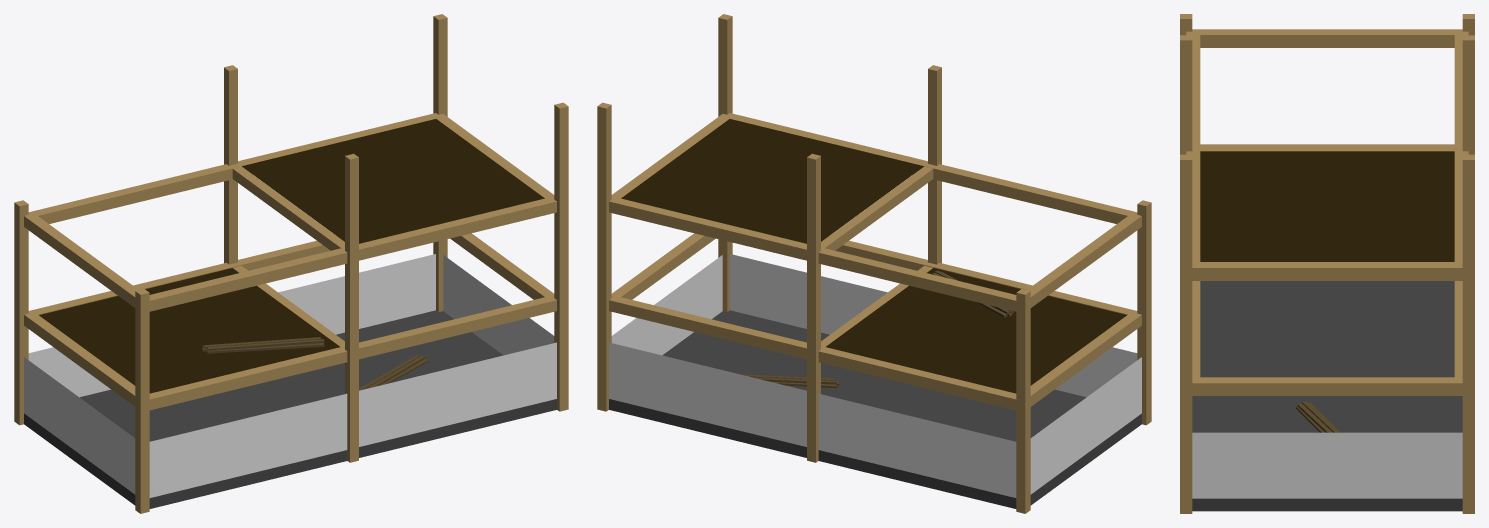
Rendered from Building_ConstructionSite3Story_Mod_01.fbx.
3 views of the same model, side by side, from view 1: azimuth 30°, elevation 25°; view 2: azimuth 150°, elevation 25°; view 3: azimuth 270°, elevation 25° (orthographic). The views are drawn at different scales.
Visible parts, largest first — view 1: Fence3, Floor3, Beams3, Floor1, Beams5, Floor2, Beams4, Fence1, Fence, Fence2, Planks3, Planks; view 2: Fence1, Floor3, Beams3, Floor1, Floor2, Beams5, Beams4, Fence3, Fence, Fence2, Planks; view 3: Floor1, Floor3, Fence2, Beams5, Beams3, Beams4, Planks.
Boxes of the visible parts, x1,y1,x2,y2 form: Fence3: [149, 342, 556, 497]; Floor3: [242, 119, 544, 243]; Beams3: [14, 14, 568, 513]; Floor1: [24, 310, 556, 508]; Beams5: [24, 113, 556, 311]; Floor2: [39, 268, 339, 393]; Beams4: [24, 233, 556, 410]; Fence1: [28, 254, 435, 397]; Fence: [24, 357, 135, 494]; Fence2: [443, 255, 554, 355]; Planks3: [202, 337, 324, 353]; Planks: [359, 355, 428, 390]; Fence1: [609, 342, 1016, 497]; Floor3: [621, 119, 923, 243]; Beams3: [597, 14, 1151, 513]; Floor1: [609, 310, 1141, 508]; Floor2: [826, 268, 1126, 393]; Beams5: [609, 113, 1141, 311]; Beams4: [609, 233, 1141, 410]; Fence3: [730, 254, 1137, 397]; Fence: [1030, 357, 1141, 494]; Fence2: [611, 255, 722, 355]; Planks: [740, 374, 839, 388]; Floor1: [1192, 281, 1462, 511]; Floor3: [1200, 151, 1454, 261]; Fence2: [1192, 432, 1462, 498]; Beams5: [1186, 29, 1468, 280]; Beams3: [1180, 14, 1474, 513]; Beams4: [1192, 144, 1462, 395]; Planks: [1296, 401, 1339, 432].
Size of the model in its own units: 20.43 by 13.82 by 10.43.
